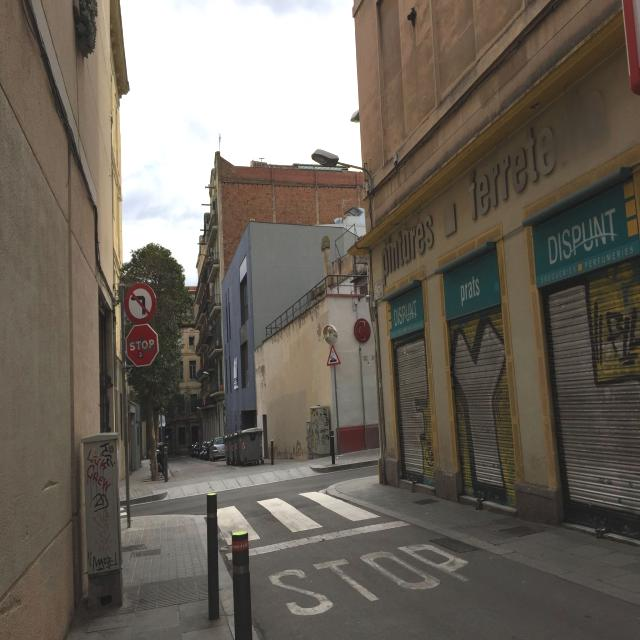car: (226, 426, 264, 466), (209, 436, 226, 461), (198, 440, 212, 460), (189, 442, 200, 457)
